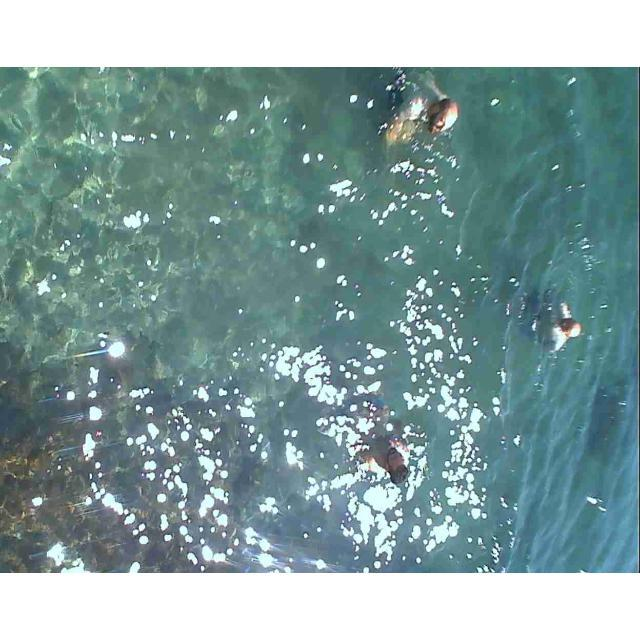human: (387, 68, 458, 150), (353, 411, 415, 492), (527, 289, 582, 359)
